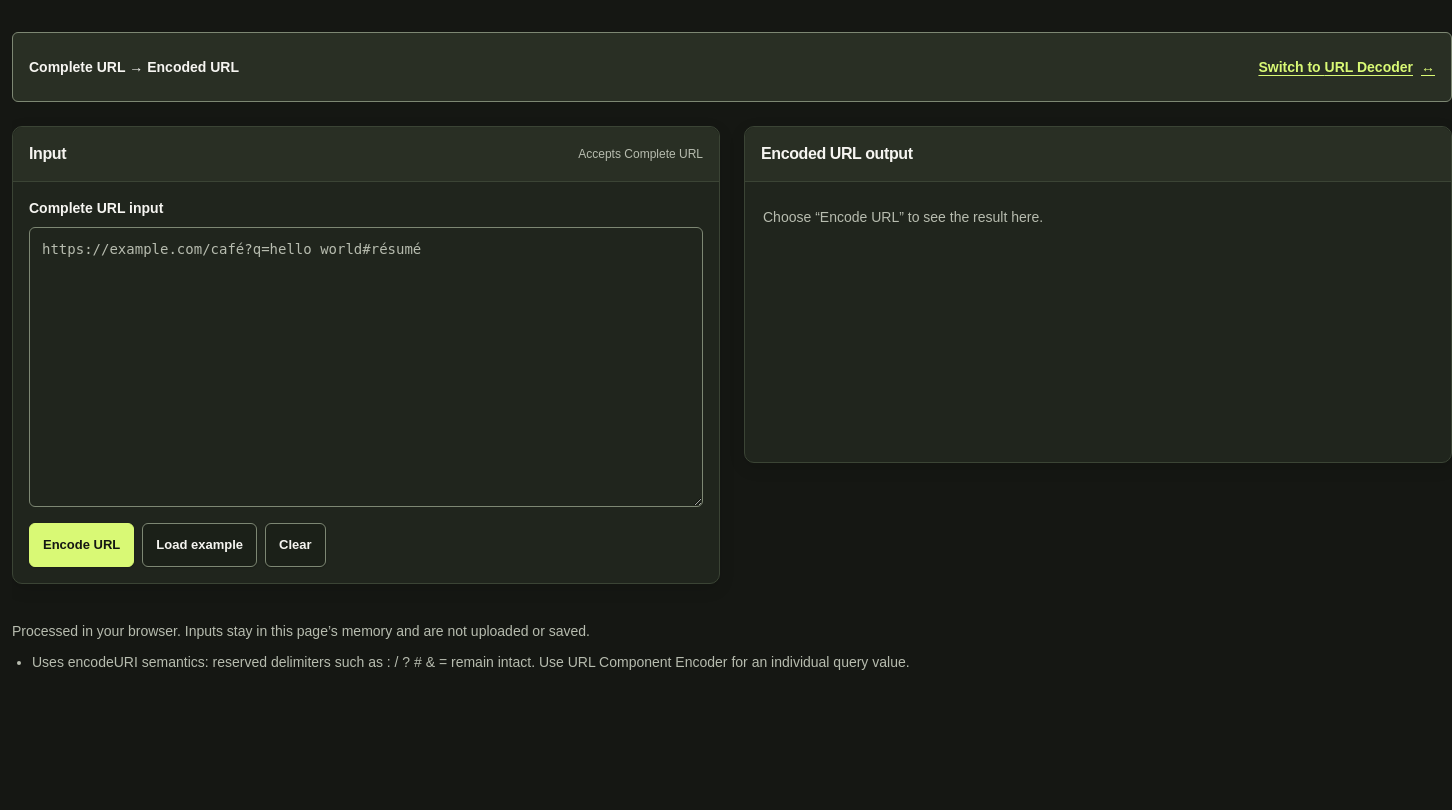
Encoding under dark DOM theme (not visual layout) › url-encoder has exact inputs, keyboard conversion, exact copy and clear without network
This screenshot has width=1452, height=810.
Press Tab
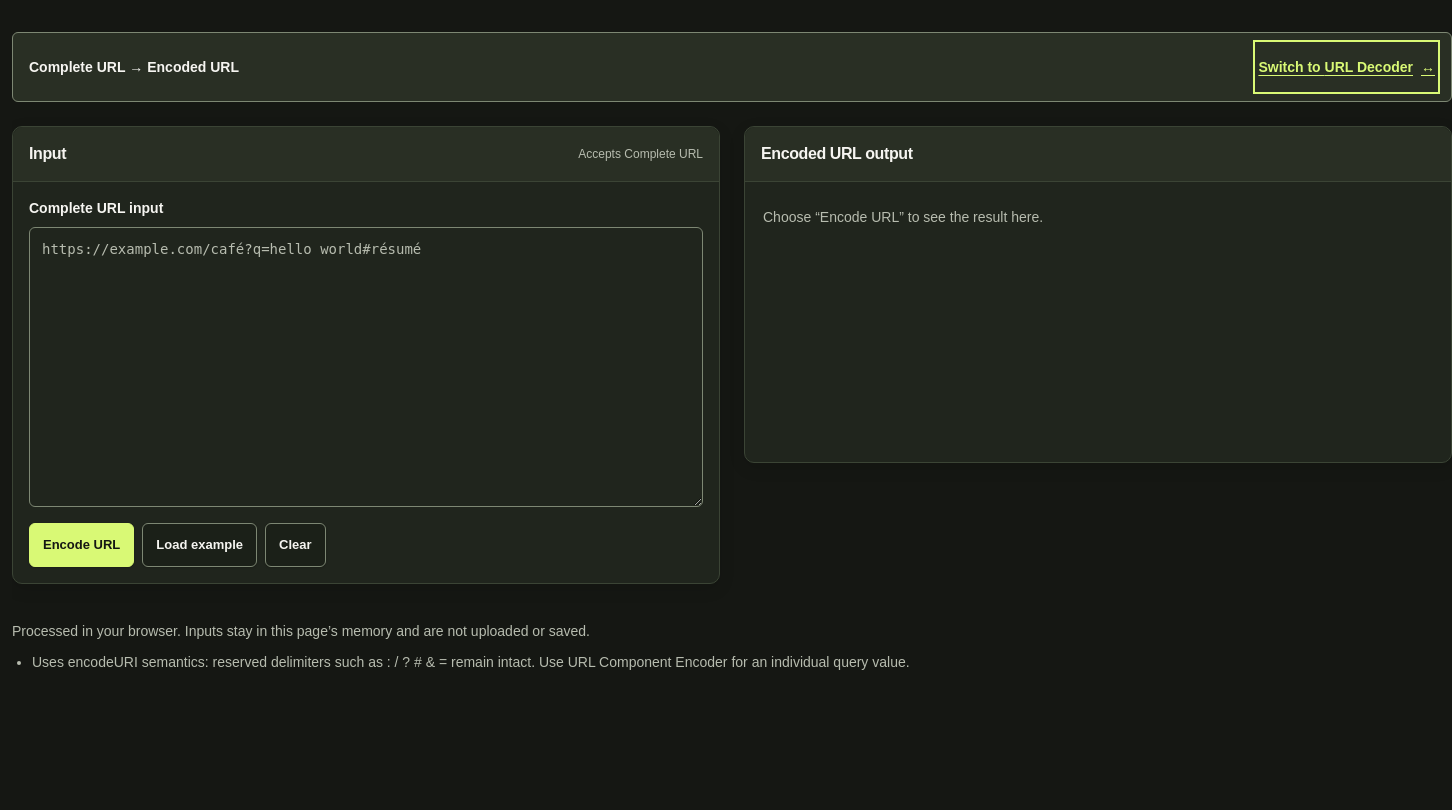
Click the button "Load example": x=200, y=545 x1=142 y1=523 x2=257 y2=567
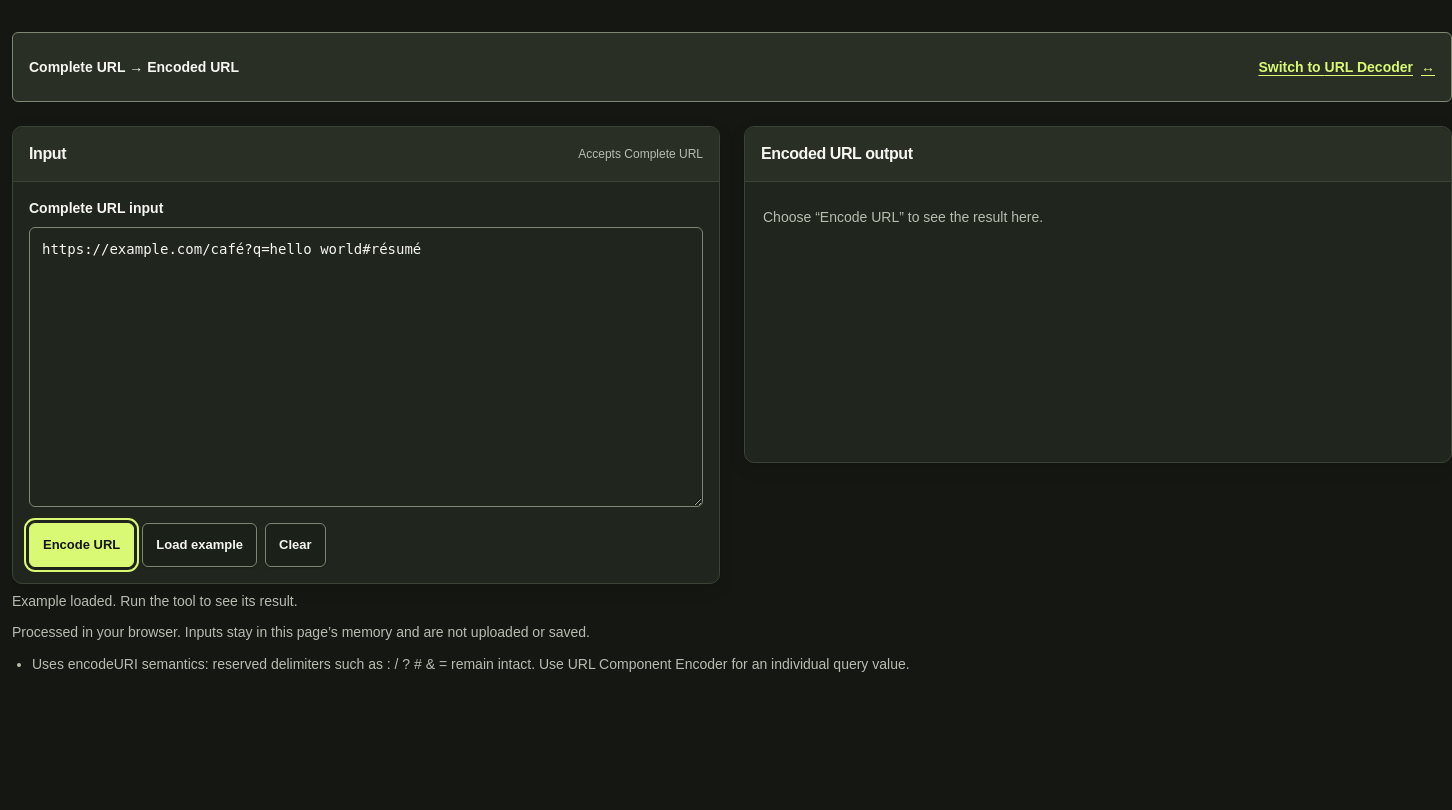
Press Enter
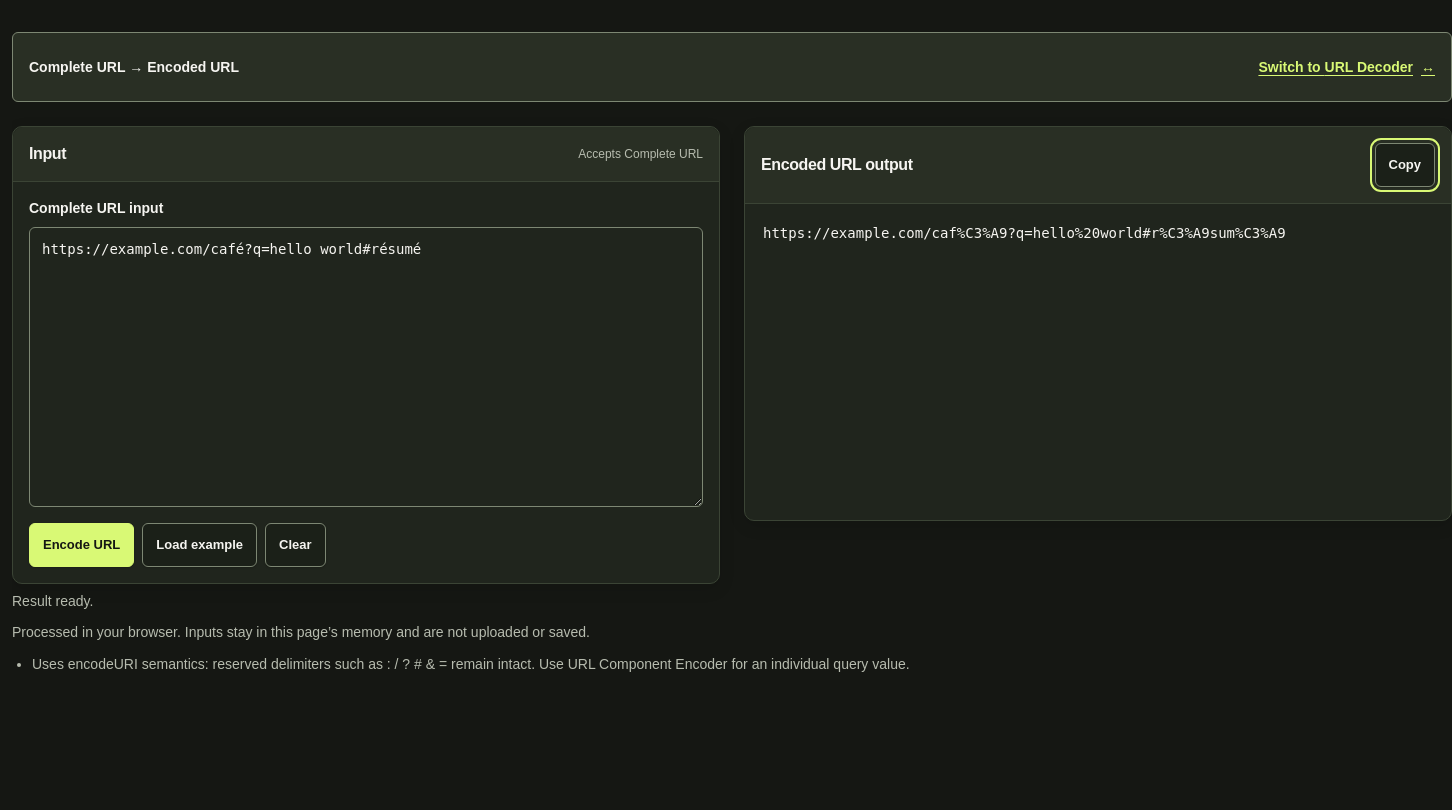
Press Enter
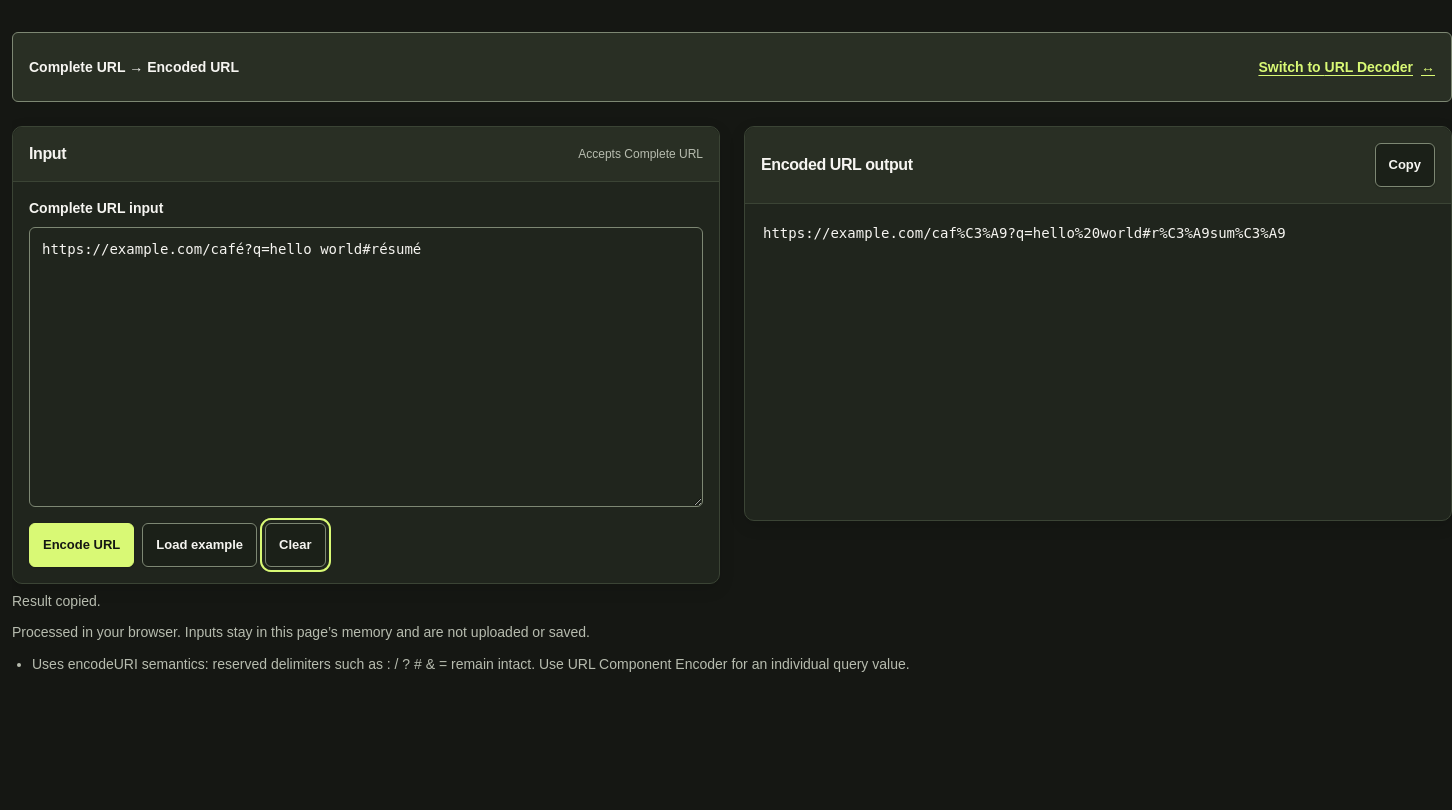
Press Enter
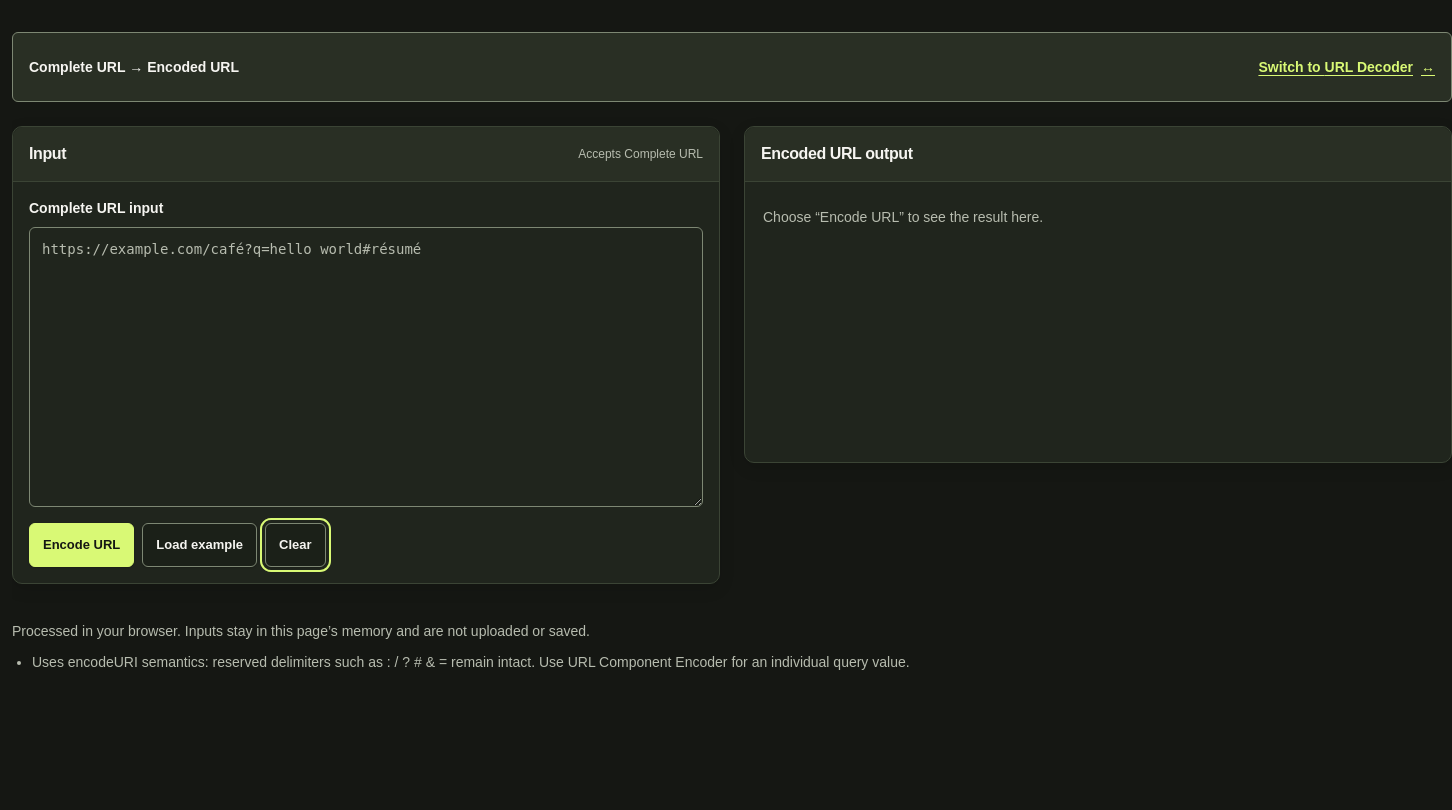
Expected: the text box labelled "Complete URL input" is empty, x1=29 y1=227 x2=703 y2=507
Expected: the button "Copy" is gone
